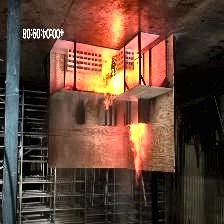fire: (68, 49, 145, 102), (113, 115, 156, 183)
